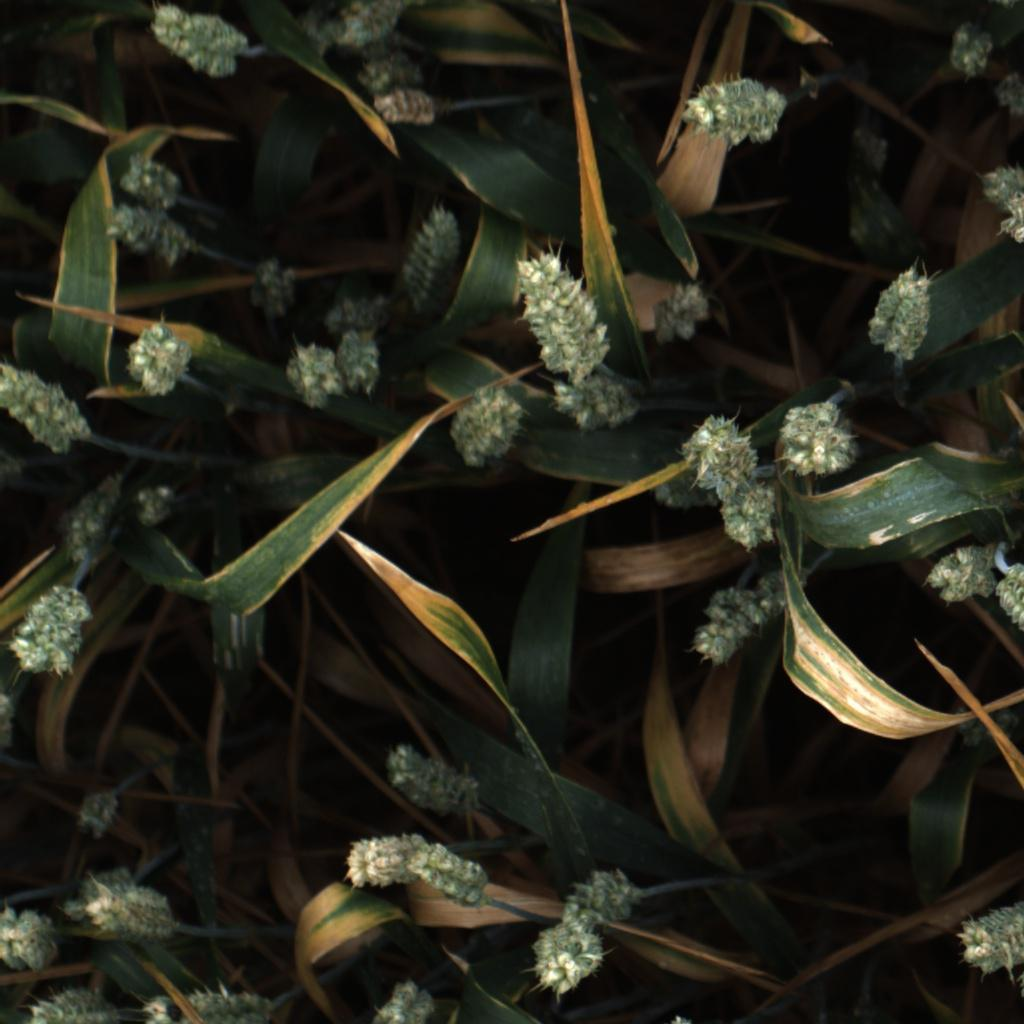0-0: (506, 249, 614, 370), (0, 356, 100, 463), (675, 69, 796, 149), (442, 375, 527, 472), (773, 393, 865, 482), (379, 736, 477, 818), (150, 2, 250, 78), (10, 586, 95, 675), (862, 265, 938, 364), (404, 203, 471, 304), (544, 370, 650, 431), (688, 586, 764, 671), (529, 919, 611, 997), (119, 316, 194, 401), (648, 465, 771, 516), (333, 273, 420, 345), (78, 881, 174, 945), (409, 844, 495, 912), (105, 204, 195, 268), (558, 859, 645, 923), (952, 902, 1024, 979), (63, 470, 122, 562), (686, 414, 756, 490), (139, 985, 272, 1024), (115, 146, 190, 211), (920, 543, 996, 605), (63, 862, 137, 925), (648, 280, 716, 348), (330, 329, 395, 400), (717, 479, 780, 552), (972, 160, 1024, 248), (280, 342, 344, 413), (337, 830, 414, 887), (22, 979, 117, 1024), (4, 895, 58, 969), (242, 252, 300, 319), (124, 475, 186, 536), (68, 781, 127, 844), (319, 0, 401, 45), (352, 47, 429, 92), (946, 17, 998, 81), (369, 86, 445, 129), (376, 975, 435, 1024), (994, 557, 1024, 629)
